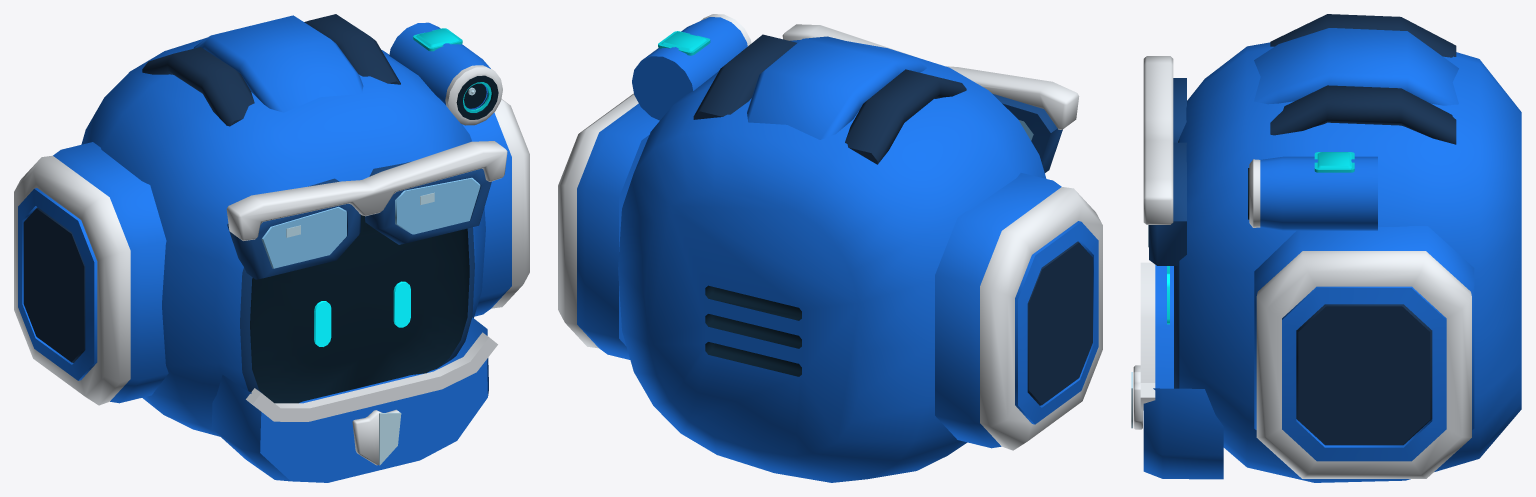
Rendered from copilot_security_v01.glb.
The picture shows the model from 3 angles, left to right: view 1: azimuth 30°, elevation 25°; view 2: azimuth 150°, elevation 25°; view 3: azimuth 270°, elevation 25°; orthographic projection. The views are drawn at different scales.
Parts seen in each view (by area): view 1: security_model; view 2: security_model; view 3: security_model.
Part boxes in pixels (x1,y1,x2,y2): security_model: [14, 14, 529, 482]; security_model: [558, 14, 1102, 482]; security_model: [1131, 14, 1521, 482].
Bounding box in the file's own units: 2.58 × 2.08 × 1.85.
Materials: 2 (2 with a texture image).
